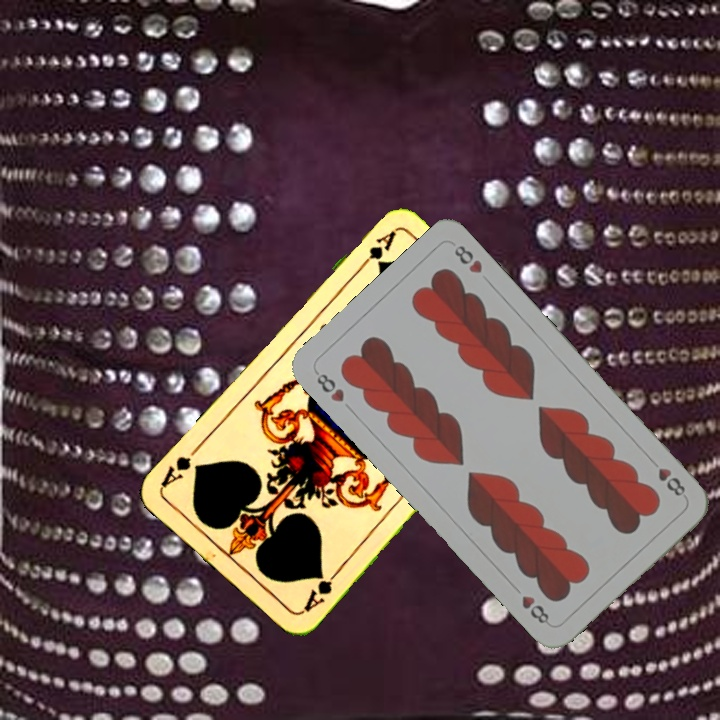GA: (353, 226, 399, 275), (299, 565, 343, 615)
H8: (645, 453, 688, 500), (311, 367, 347, 405)
